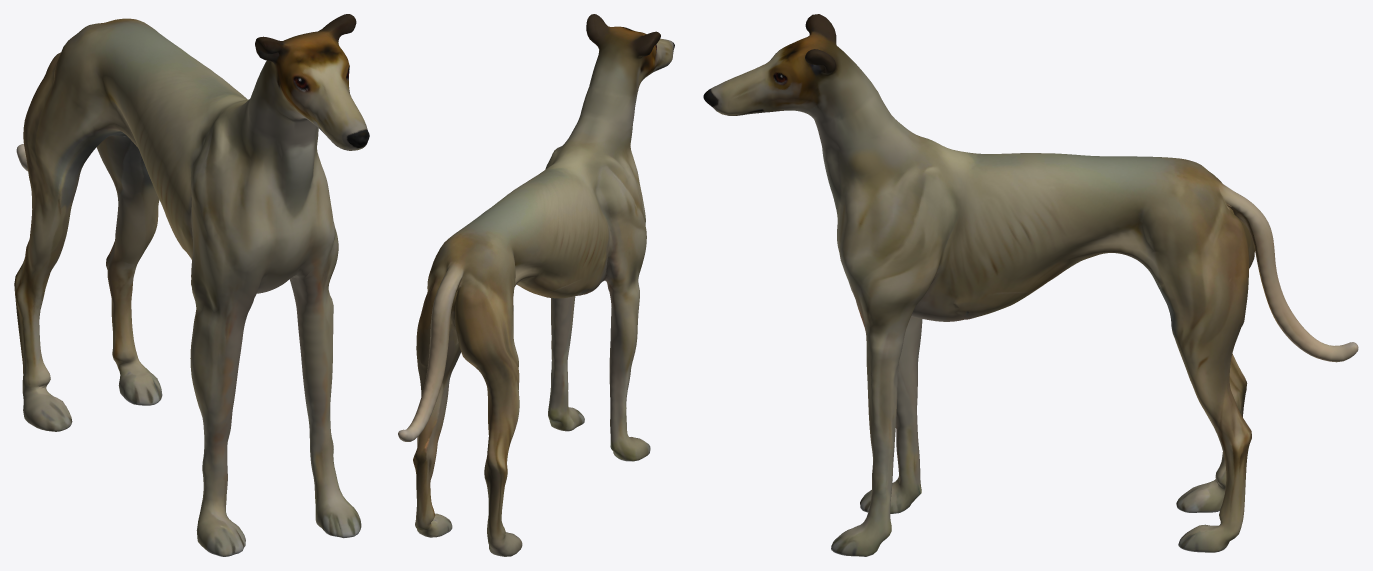
Rendered from Борзая собака с лисой - Сверчков.gltf.
The picture shows the model from 3 angles, left to right: view 1: azimuth 30°, elevation 25°; view 2: azimuth 150°, elevation 25°; view 3: azimuth 270°, elevation 25°; orthographic projection. The views are drawn at different scales.
Parts seen in each view (by area): view 1: tripo_node_a23f5844; view 2: tripo_node_a23f5844; view 3: tripo_node_a23f5844.
Boxes of the visible parts, box(x1,y1,x2,y2) form: tripo_node_a23f5844: box(14, 14, 369, 556); tripo_node_a23f5844: box(398, 14, 674, 556); tripo_node_a23f5844: box(703, 14, 1358, 556).
Bounding box in the file's own units: 22.54 × 82.77 × 98.44.
Materials: 1 (1 with a texture image).
